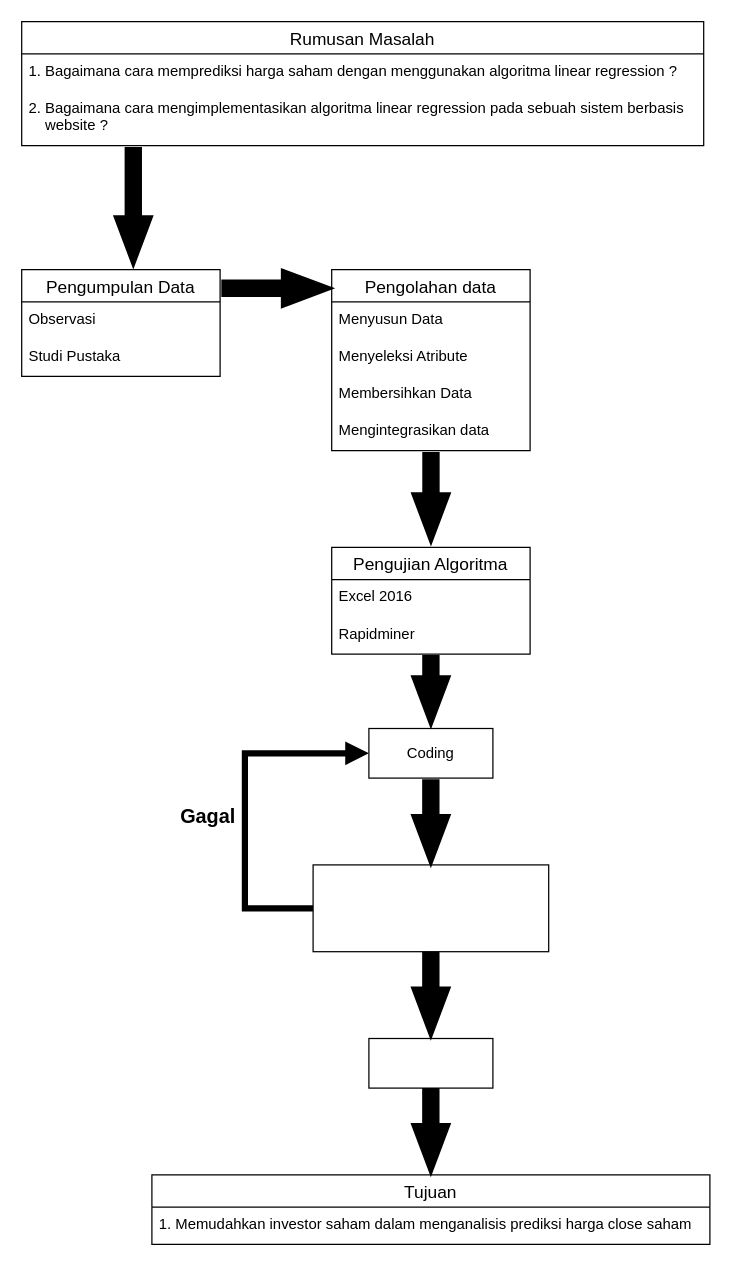
The diagram is 732 pixels wide and 1270 high, and some of its shapes have lost their labels. Each missing label, with the centre of its shape:
"Implementasi" belongs at [430,1062].
"Pengujian sistem menggunakan Black Box Testing" belongs at [430,908].
